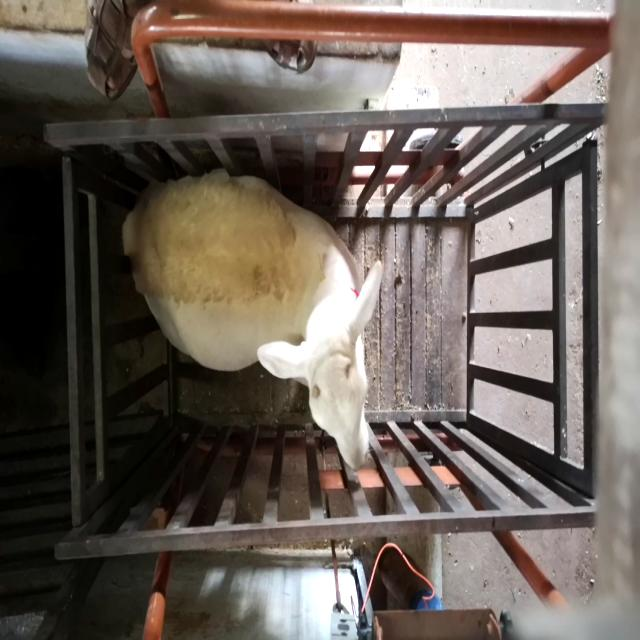sheep: (121, 169, 384, 473)
